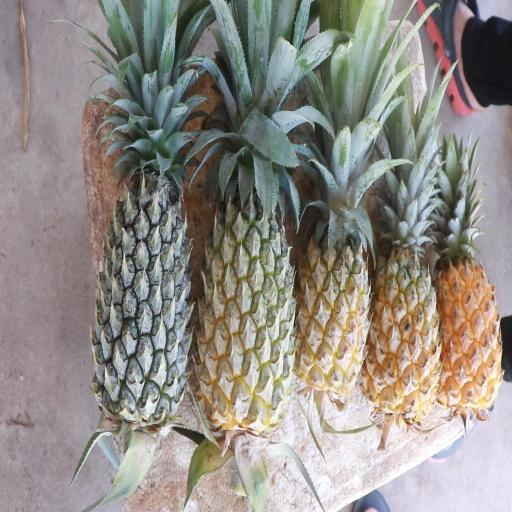------------------------------: (199, 130, 296, 426)
Pineapple - v8 v1: (299, 172, 369, 398), (370, 190, 440, 410), (439, 212, 502, 406)
